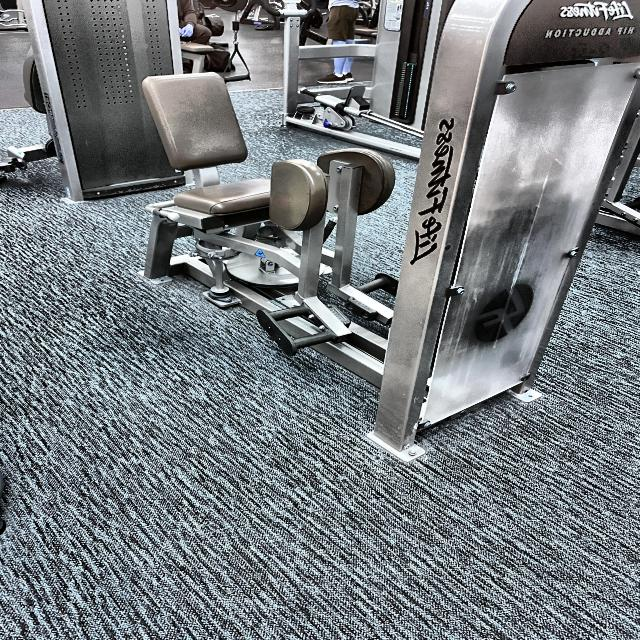hip_adduction_machine: (138, 127, 414, 367), (534, 23, 637, 49)
